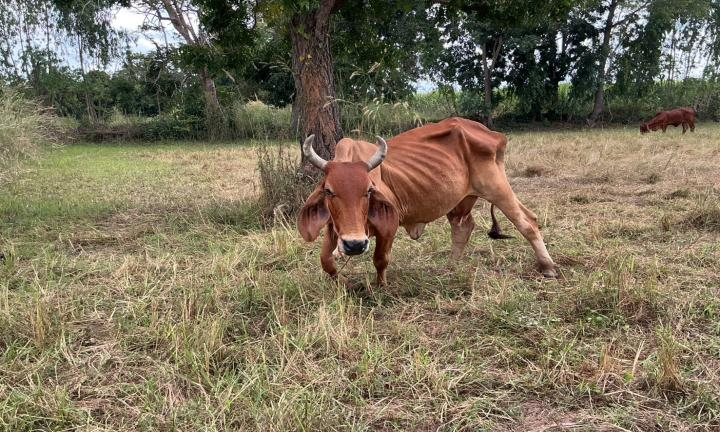Brahman: (298, 117, 557, 285)
